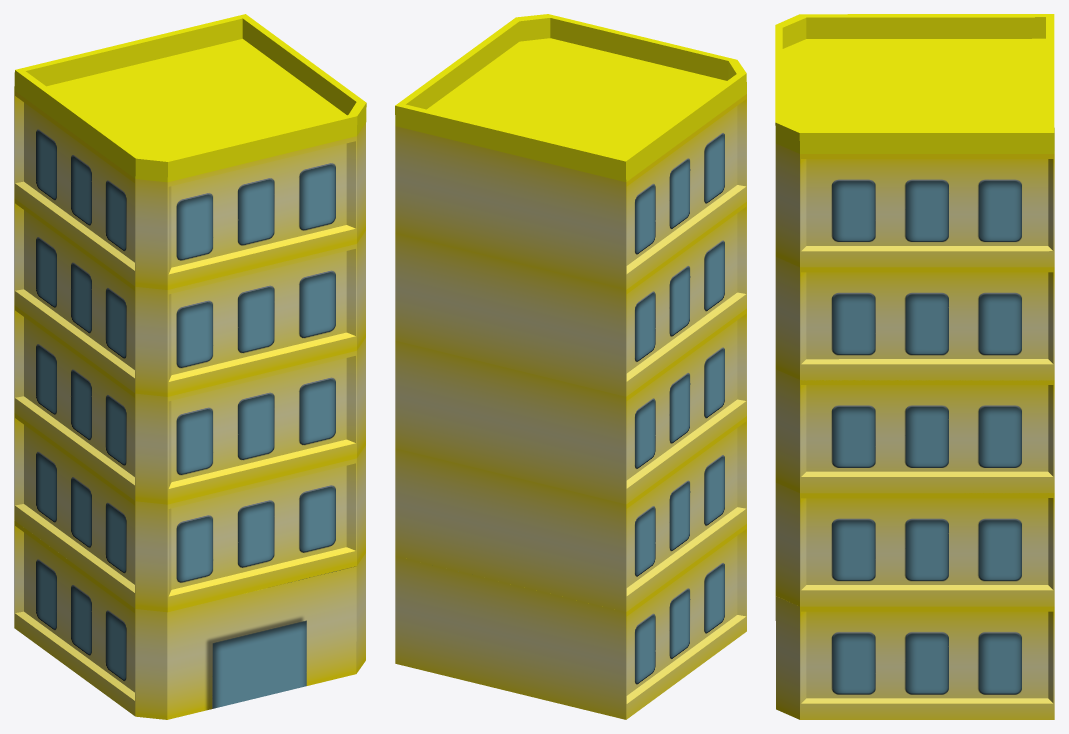
File: Building 1.fbx
The picture shows the model from 3 angles, left to right: view 1: azimuth 30°, elevation 25°; view 2: azimuth 150°, elevation 25°; view 3: azimuth 270°, elevation 25°; orthographic projection. The views are drawn at different scales.
Visible parts, largest first — view 1: Building_1; view 2: Building_1; view 3: Building_1.
Part boxes in pixels (x1=…): Building_1: x1=14, y1=14, x2=366, y2=719; Building_1: x1=395, y1=14, x2=746, y2=719; Building_1: x1=775, y1=14, x2=1054, y2=719.
Size of the model in its own units: 82.92 by 191 by 82.35.
